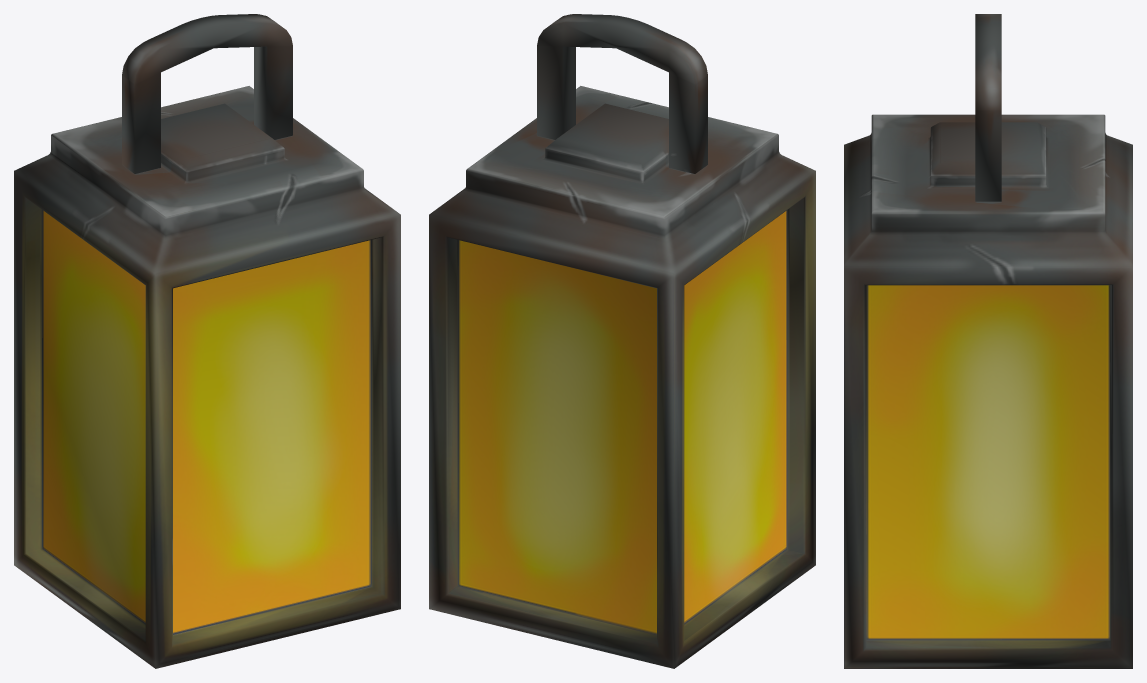
File: warden_lantern.glb
3 renders of one model, left to right at view 1: azimuth 30°, elevation 25°; view 2: azimuth 150°, elevation 25°; view 3: azimuth 270°, elevation 25°, orthographic.
Visible parts, largest first — view 1: Lnatern; view 2: Lnatern; view 3: Lnatern.
Boxes of the visible parts, bbox=[...] form: Lnatern: bbox=[14, 14, 400, 668]; Lnatern: bbox=[429, 14, 815, 668]; Lnatern: bbox=[844, 14, 1132, 668].
Bounding box in the file's own units: 2 × 4.4 × 2.
Materials: 1 (1 with a texture image).
